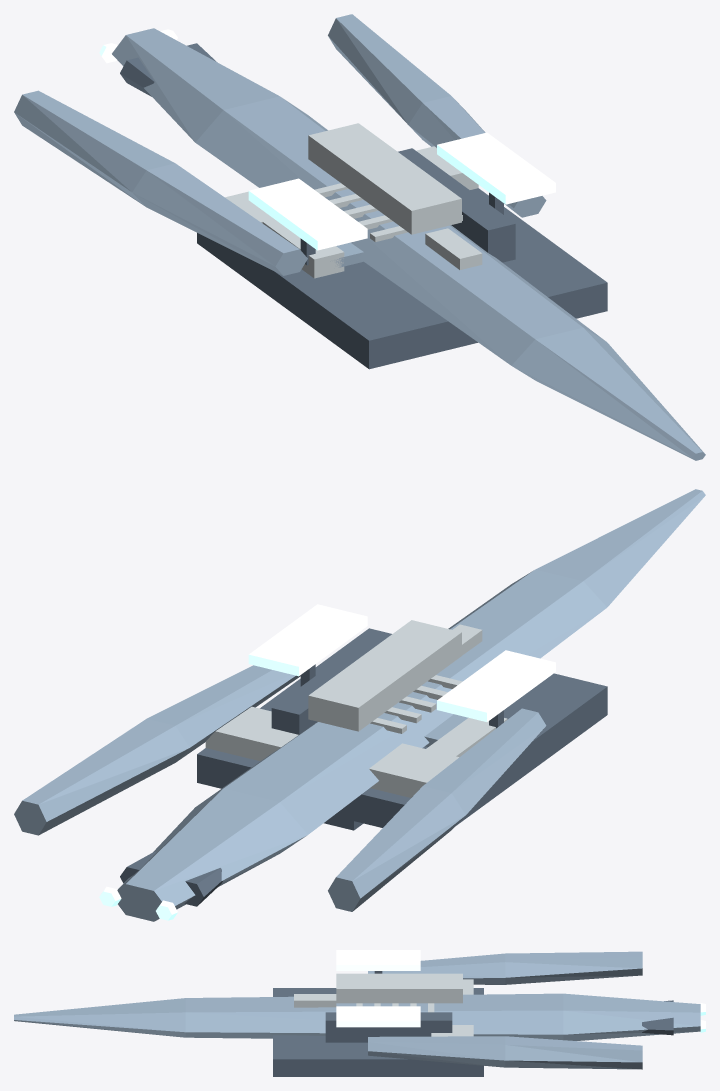
The picture shows the model from 3 angles, top to bottom: view 1: azimuth 30°, elevation 25°; view 2: azimuth 150°, elevation 25°; view 3: azimuth 270°, elevation 25°; orthographic projection. The views are drawn at different scales.
Size of the model in its own units: 5.3 by 1.57 by 14.93.
